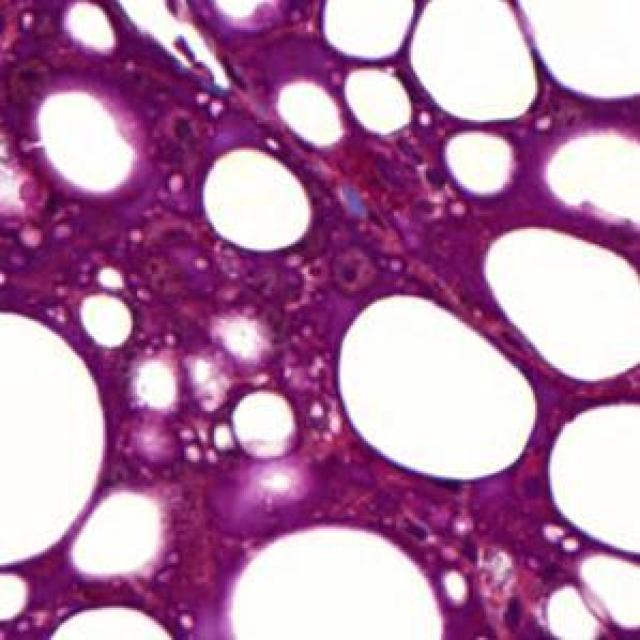steatosis: (342, 293, 538, 484), (197, 148, 317, 250), (340, 71, 430, 141)
